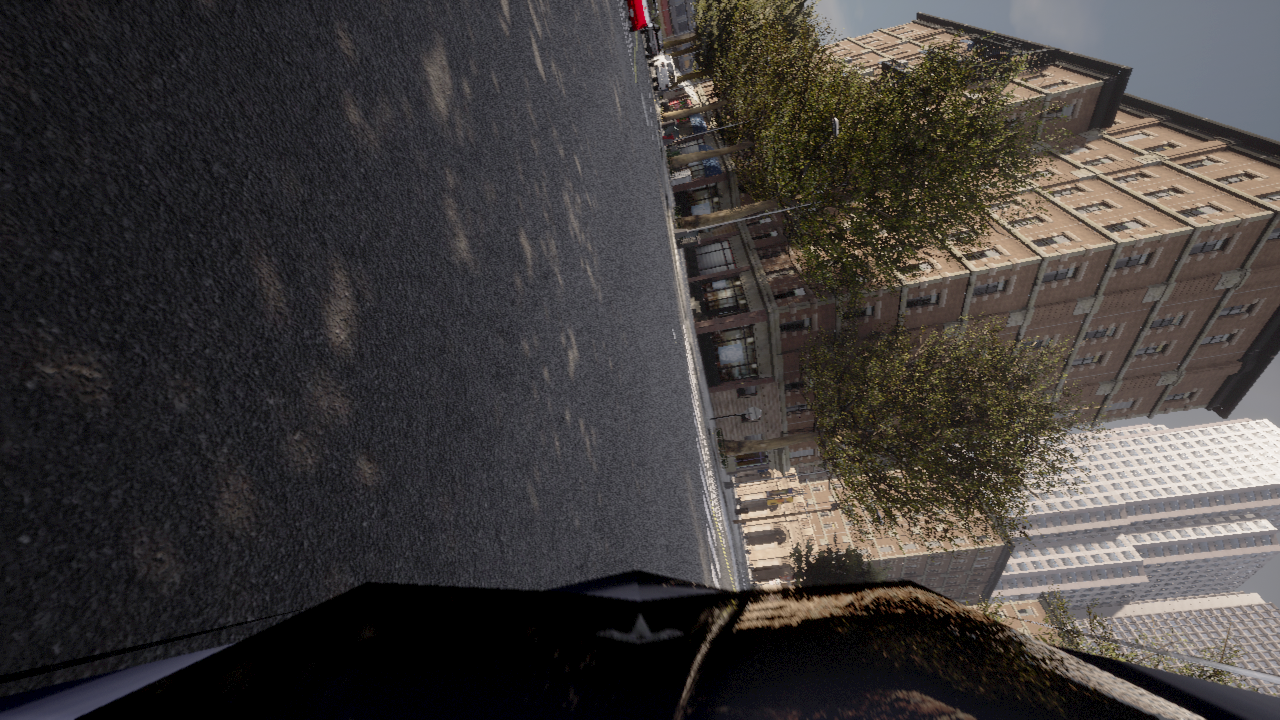cyclist: (0, 569, 1279, 719), (648, 51, 675, 90), (624, 0, 657, 31), (640, 20, 663, 57), (661, 49, 662, 52)
